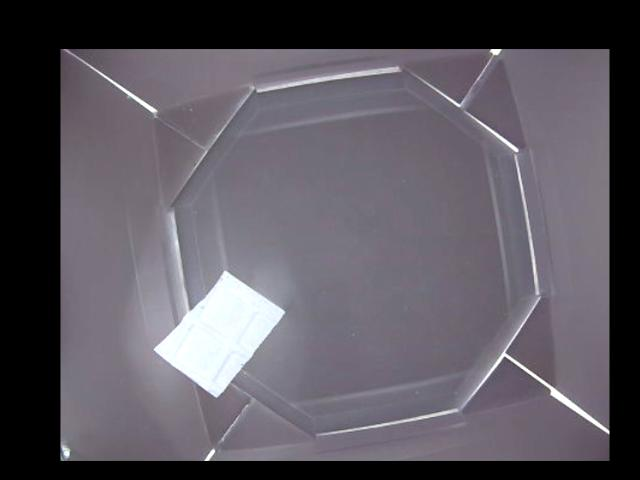China: (153, 267, 283, 400)
